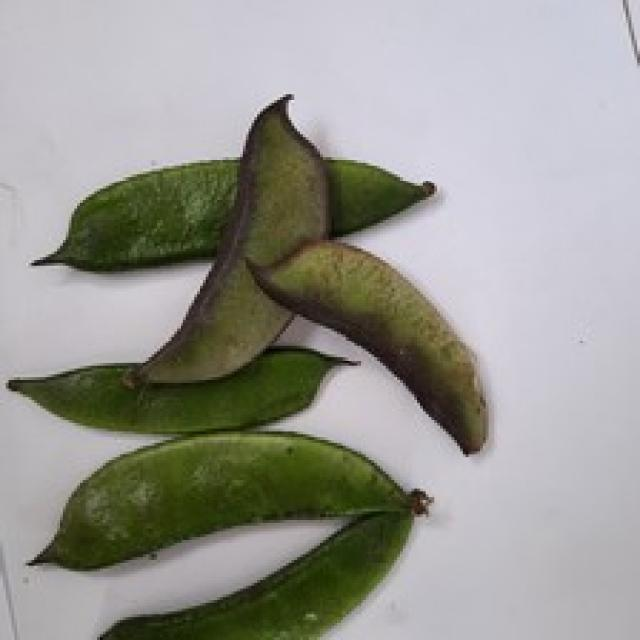Bean: (120, 92, 331, 388), (23, 428, 428, 572), (246, 237, 488, 454), (72, 489, 417, 637), (29, 152, 434, 272), (3, 343, 357, 434)
